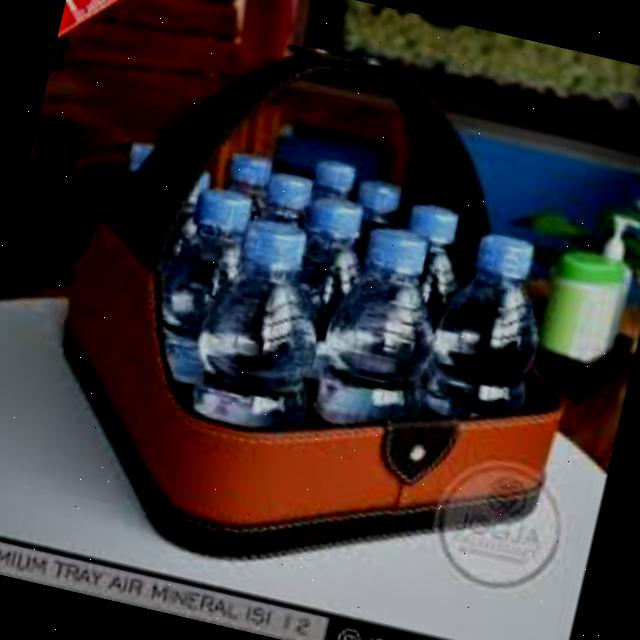trash: (149, 193, 370, 509), (308, 221, 488, 455), (420, 226, 570, 462), (130, 172, 300, 374), (372, 168, 489, 270), (274, 180, 386, 284), (198, 132, 302, 218), (338, 165, 418, 270), (307, 142, 385, 226)
